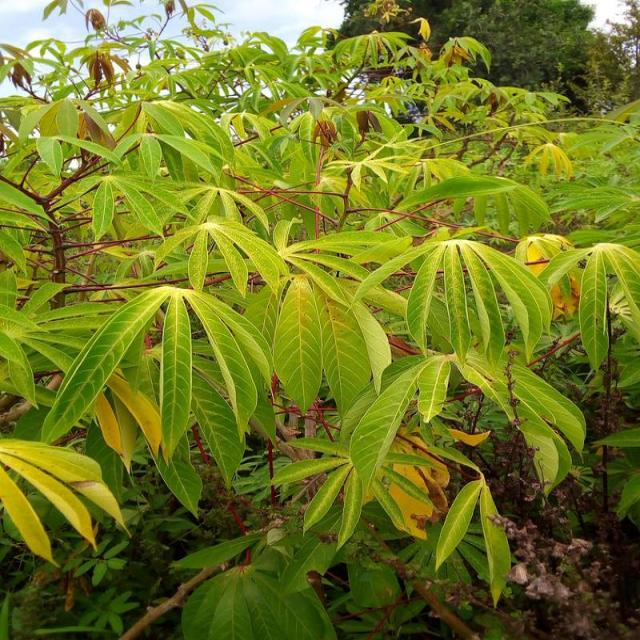cassava leaf: (1, 3, 634, 621)
